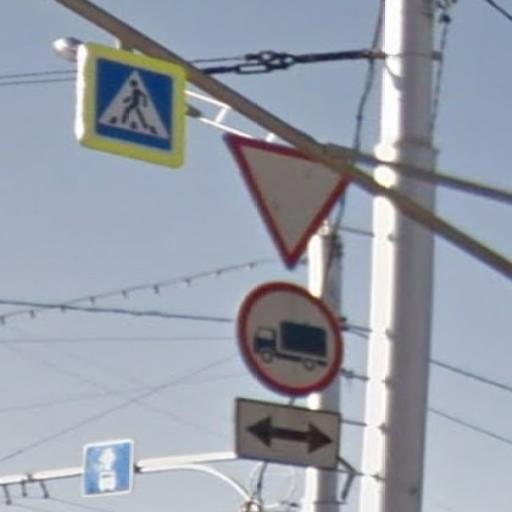traffic_sign: (224, 132, 357, 270), (237, 281, 346, 398)
